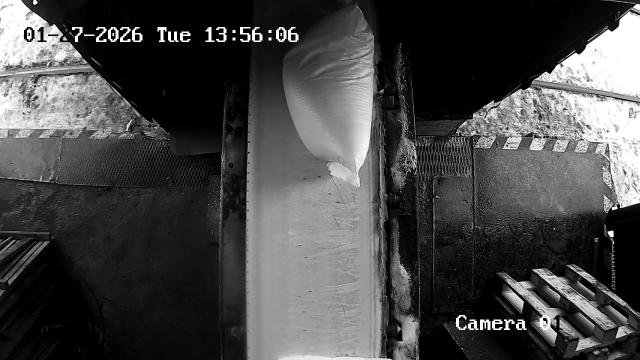bag: (283, 0, 374, 187)
